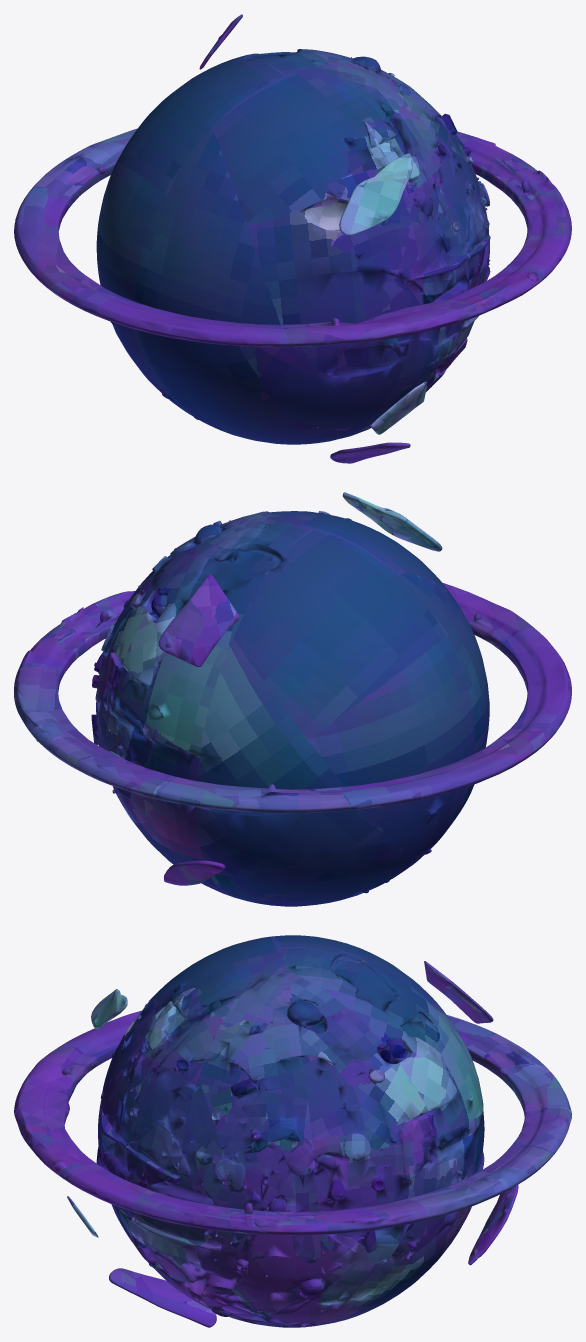
File: prop_crystalball.glb
3 renders of one model, top to bottom at view 1: azimuth 30°, elevation 25°; view 2: azimuth 150°, elevation 25°; view 3: azimuth 270°, elevation 25°, orthographic.
Parts seen in each view (by area): view 1: tripo_node_192f8d63-8433-4ae8-8f1d-18035bfd0b3d; view 2: tripo_node_192f8d63-8433-4ae8-8f1d-18035bfd0b3d; view 3: tripo_node_192f8d63-8433-4ae8-8f1d-18035bfd0b3d.
Boxes of the visible parts, x1=… form: tripo_node_192f8d63-8433-4ae8-8f1d-18035bfd0b3d: x1=14, y1=14, x2=571, y2=463; tripo_node_192f8d63-8433-4ae8-8f1d-18035bfd0b3d: x1=14, y1=492, x2=571, y2=906; tripo_node_192f8d63-8433-4ae8-8f1d-18035bfd0b3d: x1=14, y1=935, x2=571, y2=1327.
Bounding box in the file's own units: 0.9751 × 0.7108 × 0.9809.
Materials: 1 (1 with a texture image).
